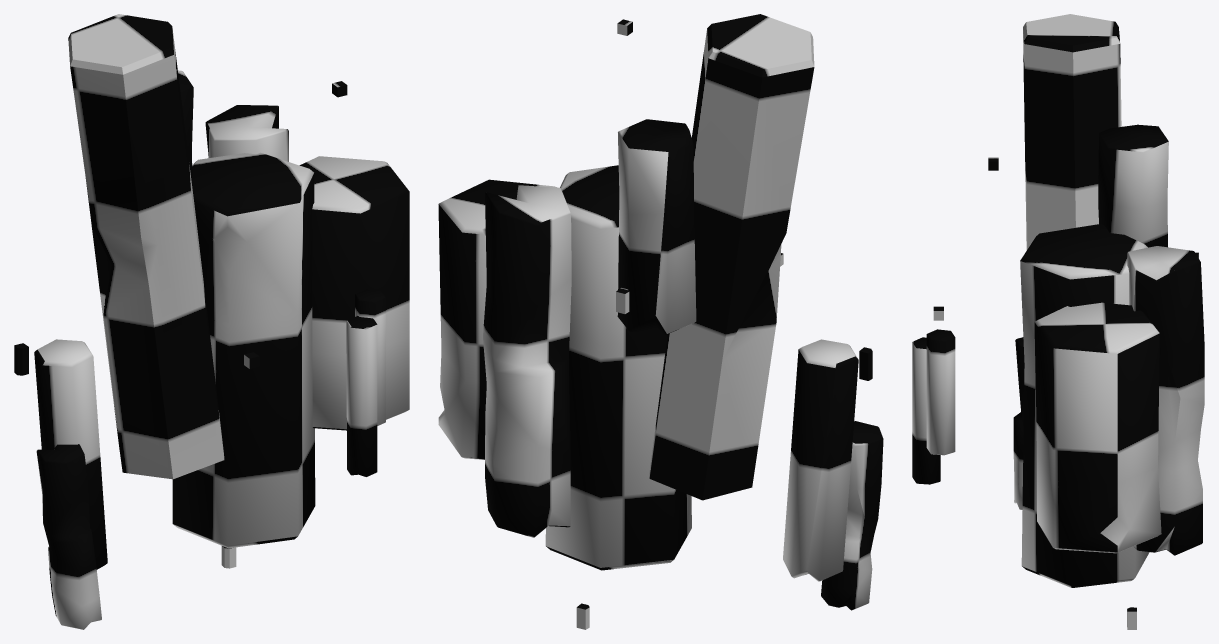
Rendered from streuner_asteroid02.obj.
3 views of the same model, side by side, from view 1: azimuth 30°, elevation 25°; view 2: azimuth 150°, elevation 25°; view 3: azimuth 270°, elevation 25° (orthographic). The views are drawn at different scales.
Parts seen in each view (by area): view 1: lowpoly; view 2: lowpoly; view 3: lowpoly.
Boxes of the visible parts, left/top/right/bottom form: lowpoly: left=14, top=14, right=409, bottom=629; lowpoly: left=438, top=14, right=883, bottom=629; lowpoly: left=912, top=14, right=1204, bottom=629.
Bounding box in the file's own units: 549 × 779 × 382.
Materials: 1 (1 with a texture image).
